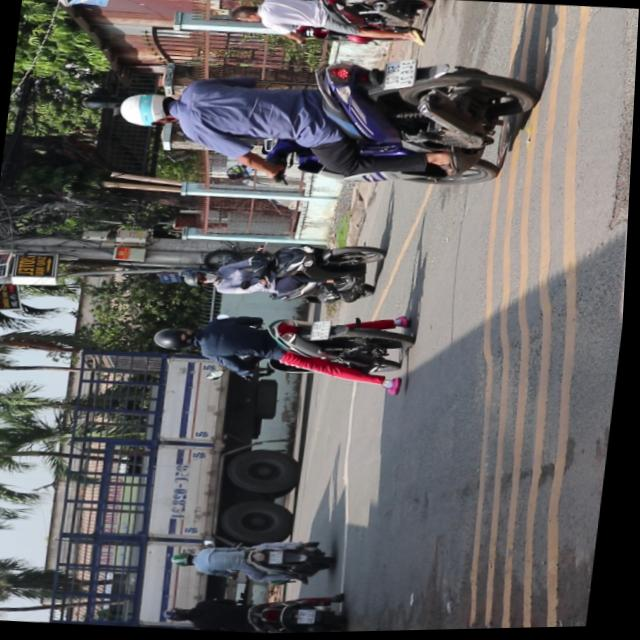helmet: (117, 87, 180, 128), (154, 323, 202, 351), (183, 266, 218, 287), (167, 604, 196, 623)
licenseplate: (103, 34, 546, 204), (150, 300, 419, 393), (180, 230, 389, 312), (222, 0, 433, 51), (165, 582, 354, 637)
motorcyclist: (227, 1, 260, 22)
nohelmet: (384, 58, 415, 91), (313, 320, 334, 340), (303, 608, 322, 624), (343, 0, 361, 4)
